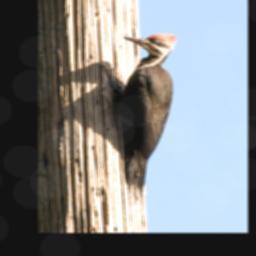Woodpecker: (100, 33, 178, 200)
